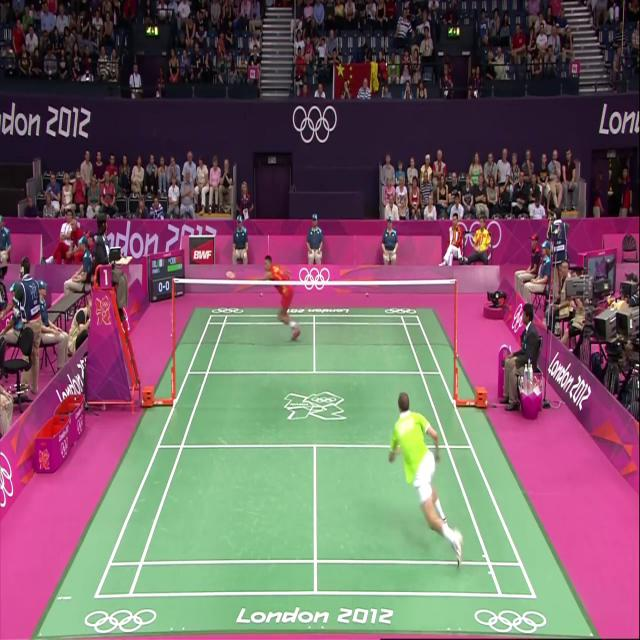Net: (174, 278, 458, 379)
Player1: (395, 326, 470, 587)
Player2: (262, 234, 297, 364)
